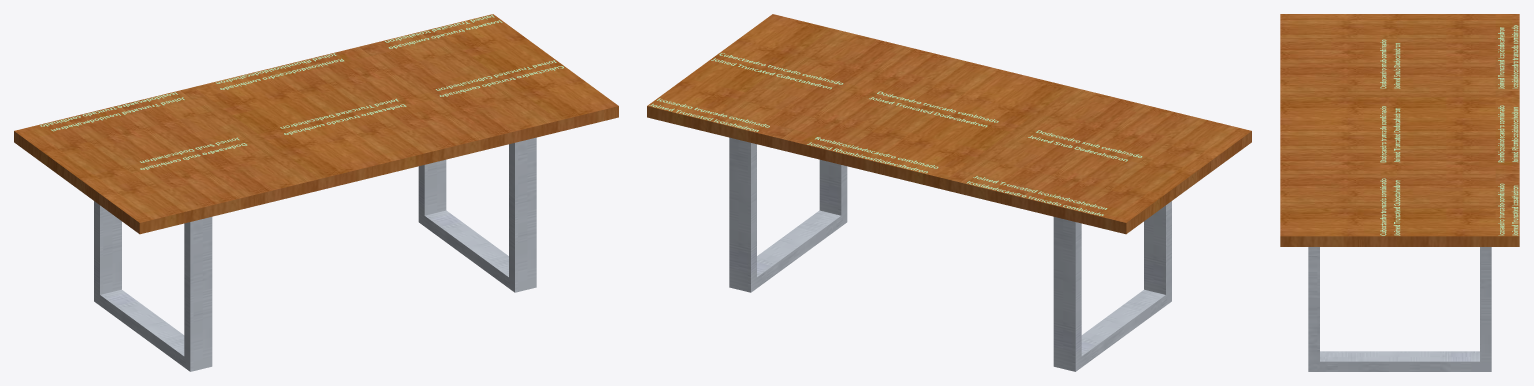
File: ArquimedesConvexHullsb.glb
3 views of the same model, side by side, from view 1: azimuth 30°, elevation 25°; view 2: azimuth 150°, elevation 25°; view 3: azimuth 270°, elevation 25° (orthographic). The views are drawn at different scales.
Visible parts, largest first — view 1: object 1, Composant#1 (×2), Joined Truncated, Rombicosidodecae, Cuboctaedro trun#1, Dodecaedro trunc, Icosaedro trunca; view 2: object 1, Composant#1 (×2), Joined Truncated, Rombicosidodecae, Cuboctaedro trun#1, Dodecaedro trunc, Icosaedro trunca, Dodecaedro snub; view 3: object 1, Composant#1, Joined Truncated, Rombicosidodecae, Cuboctaedro trun#1, Dodecaedro trunc, Icosaedro trunca, Dodecaedro snub.
Boxes of the visible parts, x1,y1,x2,y2 form: object 1: [14, 14, 618, 234]; Composant#1 (×2): [94, 137, 536, 371]; Joined Truncated: [40, 92, 184, 131]; Rombicosidodecae: [215, 53, 343, 89]; Cuboctaedro trun#1: [436, 60, 563, 96]; Dodecaedro trunc: [280, 98, 406, 134]; Icosaedro trunca: [385, 14, 502, 48]; object 1: [647, 14, 1251, 234]; Composant#1 (×2): [729, 137, 1171, 371]; Joined Truncated: [966, 176, 1107, 215]; Rombicosidodecae: [807, 137, 938, 173]; Cuboctaedro trun#1: [711, 53, 843, 89]; Dodecaedro trunc: [869, 91, 998, 127]; Icosaedro trunca: [649, 98, 769, 131]; Dodecaedro snub: [1028, 130, 1142, 161]; object 1: [1280, 14, 1519, 246]; Composant#1: [1308, 247, 1491, 371]; Joined Truncated: [1498, 25, 1518, 88]; Rombicosidodecae: [1498, 105, 1518, 162]; Cuboctaedro trun#1: [1380, 178, 1400, 235]; Dodecaedro trunc: [1380, 106, 1400, 162]; Icosaedro trunca: [1498, 183, 1518, 235]; Dodecaedro snub: [1380, 39, 1400, 88].
Bounding box in the file's own units: 2.2 × 0.771 × 1.
3 materials, 2 textured.
